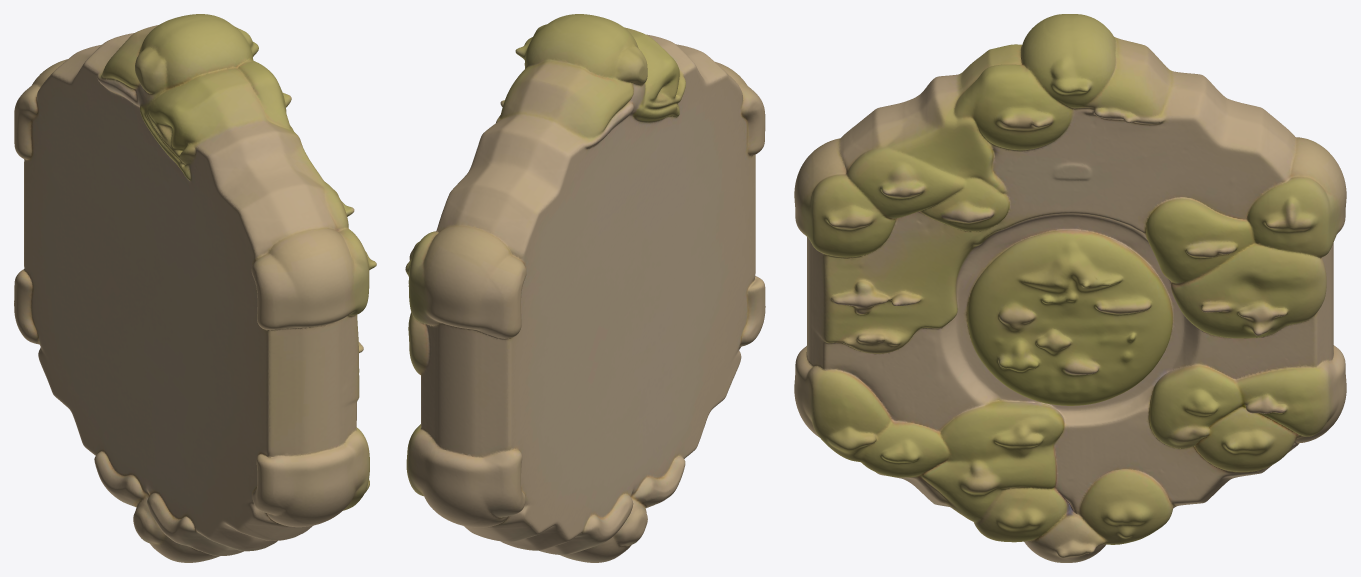
Rendered from terrain_hill 2.glb.
3 views of the same model, side by side, from view 1: azimuth 30°, elevation 25°; view 2: azimuth 150°, elevation 25°; view 3: azimuth 270°, elevation 25° (orthographic).
Parts seen in each view (by area): view 1: tripo_node_eb04f978-da1c-4849-87a8-047701ea441f; view 2: tripo_node_eb04f978-da1c-4849-87a8-047701ea441f; view 3: tripo_node_eb04f978-da1c-4849-87a8-047701ea441f.
Part boxes in pixels (x1,y1,x2,y2): tripo_node_eb04f978-da1c-4849-87a8-047701ea441f: (14, 14, 376, 562); tripo_node_eb04f978-da1c-4849-87a8-047701ea441f: (405, 14, 765, 562); tripo_node_eb04f978-da1c-4849-87a8-047701ea441f: (794, 14, 1346, 562).
Size of the model in its own units: 0.2501 by 1 by 0.9367.
1 material, 1 textured.
